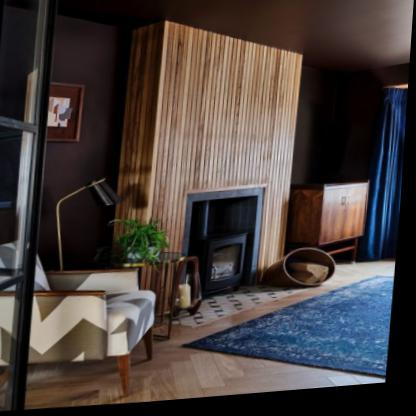Wall Panel: (137, 30, 310, 297)
